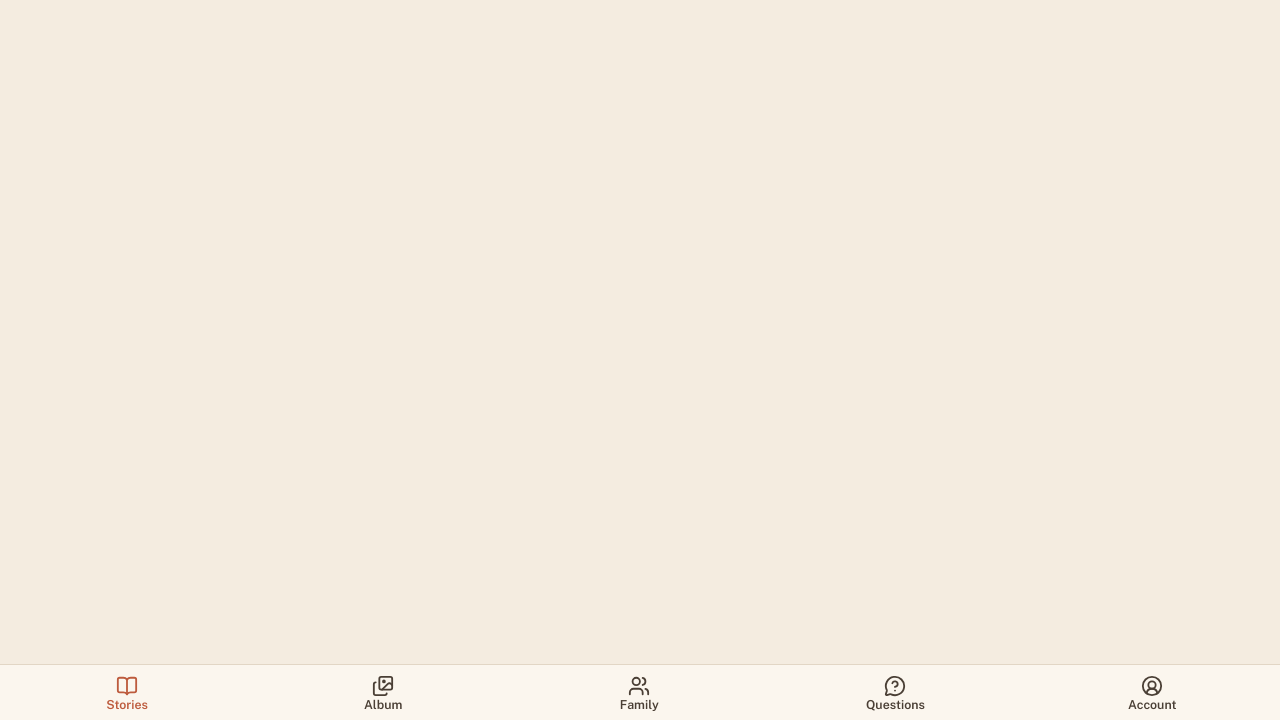
Test: BottomTabBar › opens the account menu sheet (with its items) when the Account item is tapped
This screenshot has width=1280, height=720.
What coordinates should you click on to do the following:
click the button "Account"
I would click on:
 (1152, 693)
Its box is [1024, 665, 1279, 719].
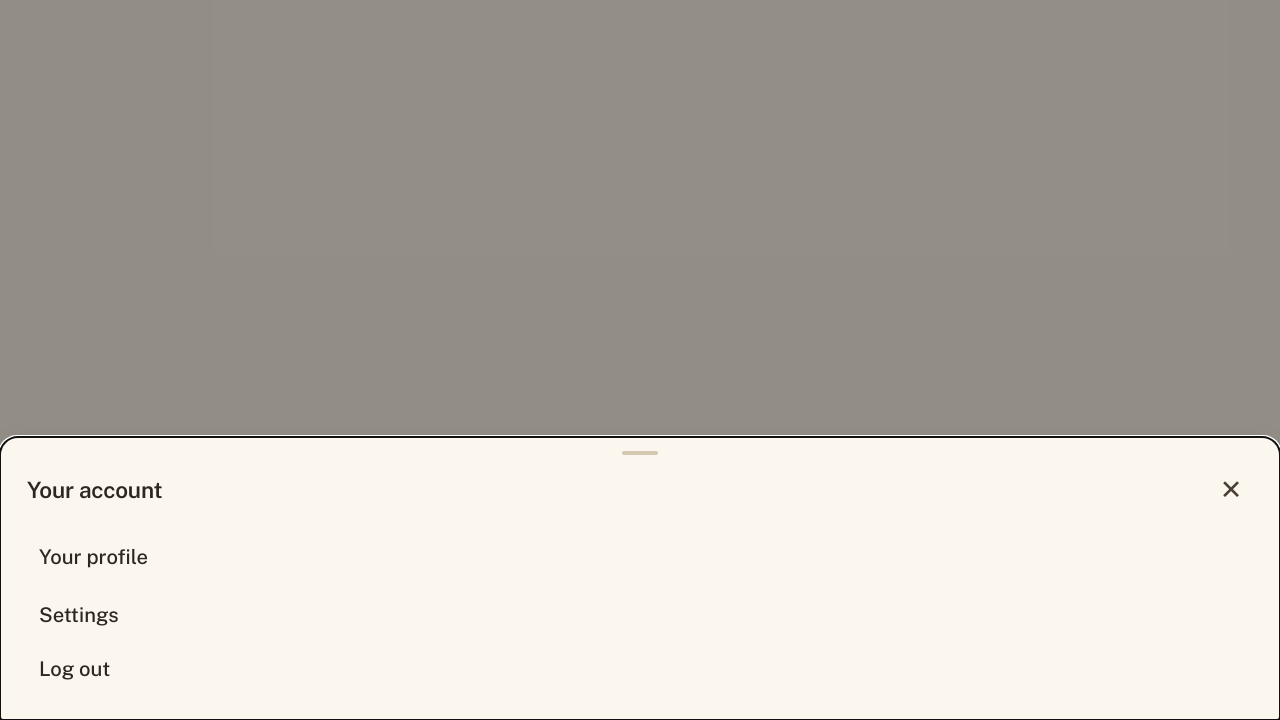
expect the menu item "Your profile" is shown: met, box [39, 545, 148, 569]
expect the menu item "Log out" is shown: met, box [27, 645, 1253, 693]
